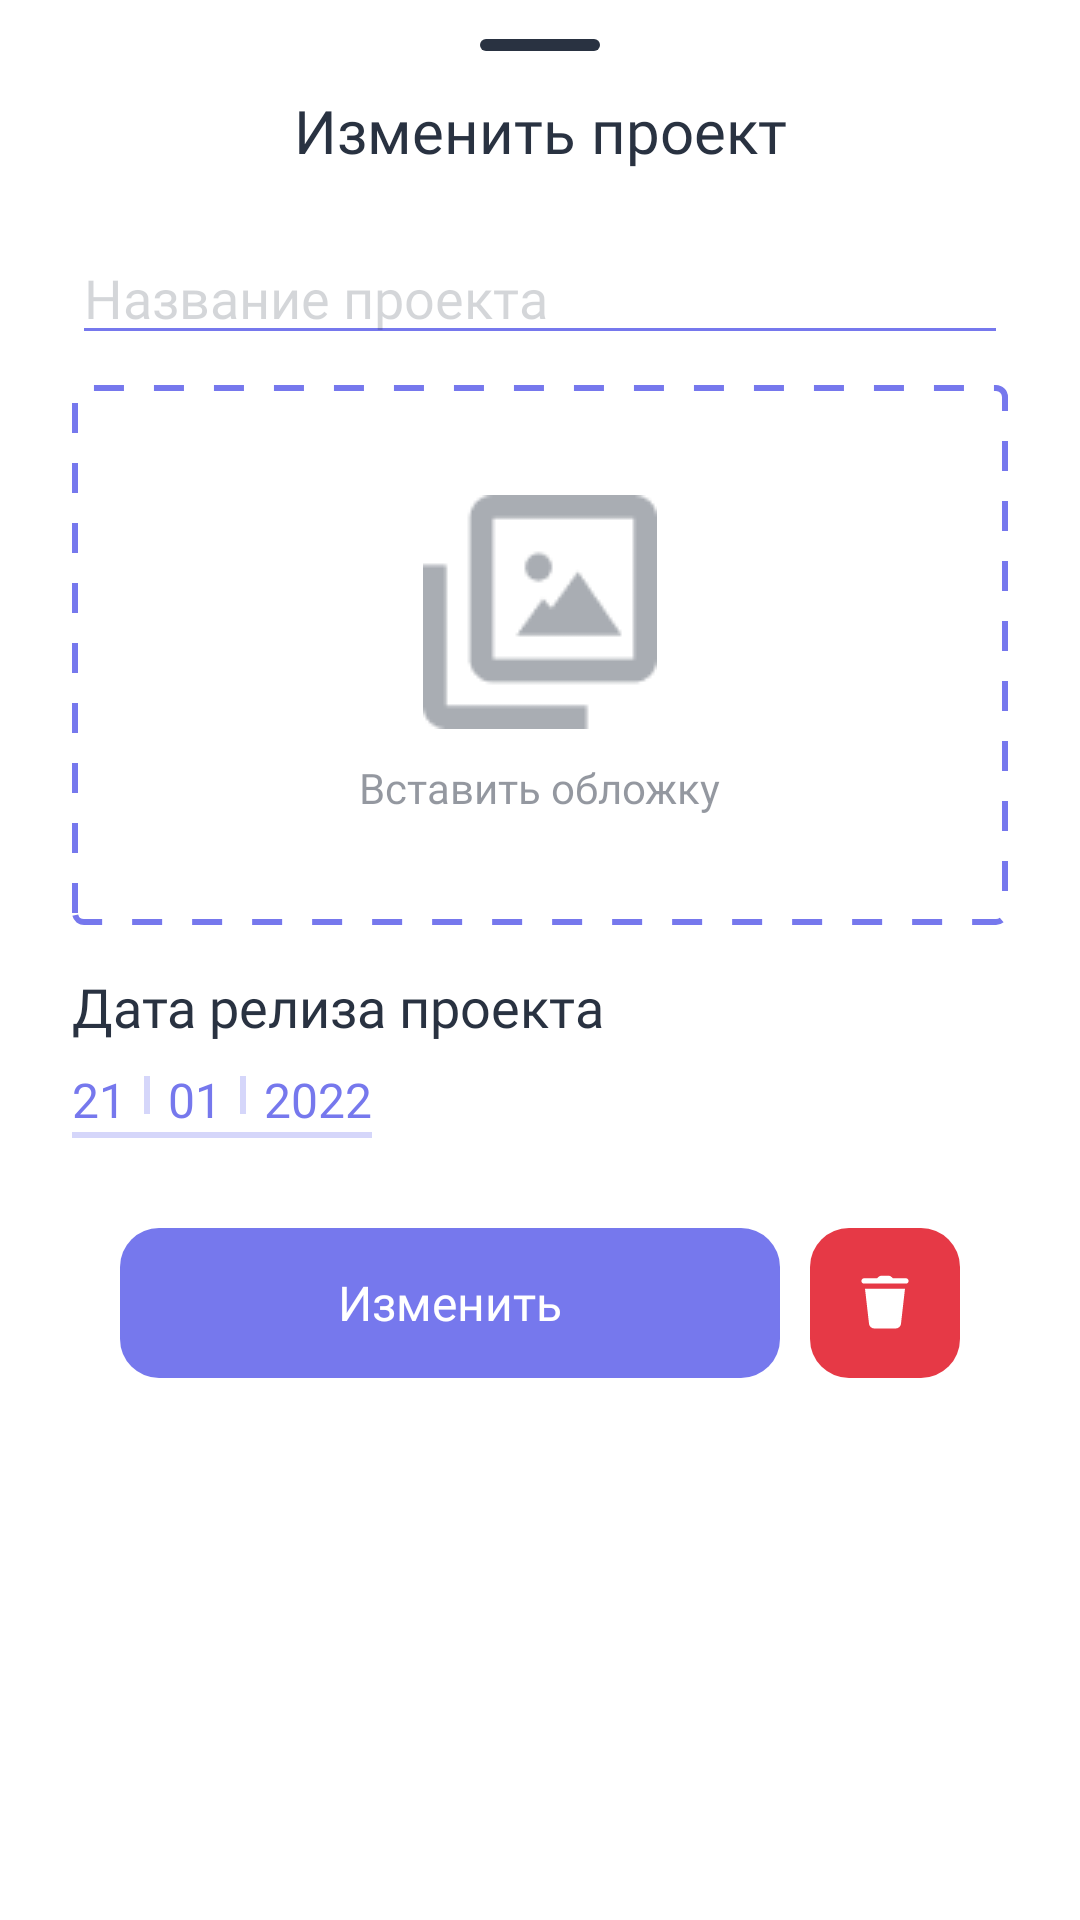

Named icons in this screenshot (1080x1920) and their centers, (x=x, y=y):
delete: (x=885, y=1303)
